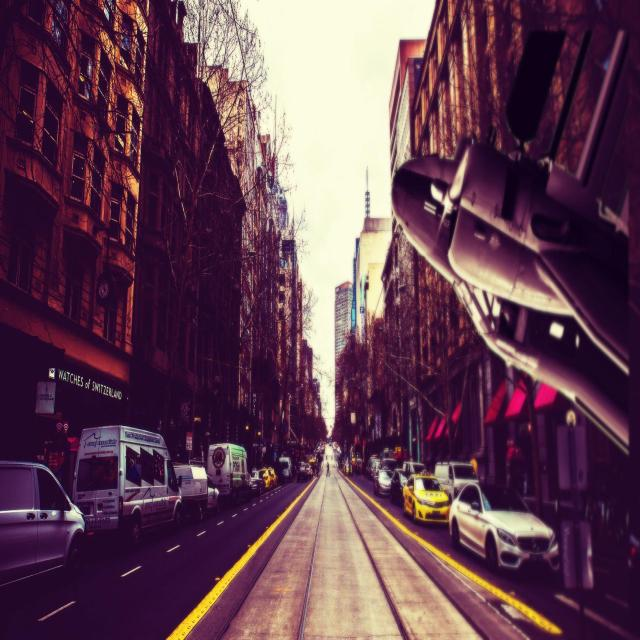airplane: (391, 19, 638, 452)
